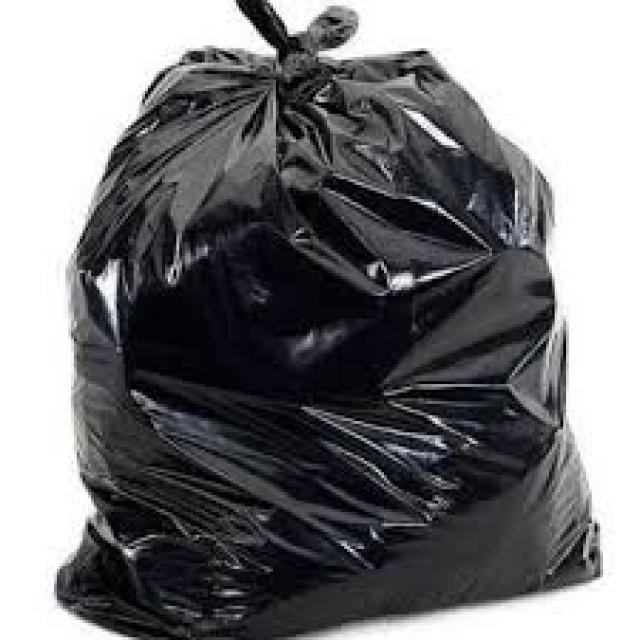Trashbag: (55, 3, 610, 639)
